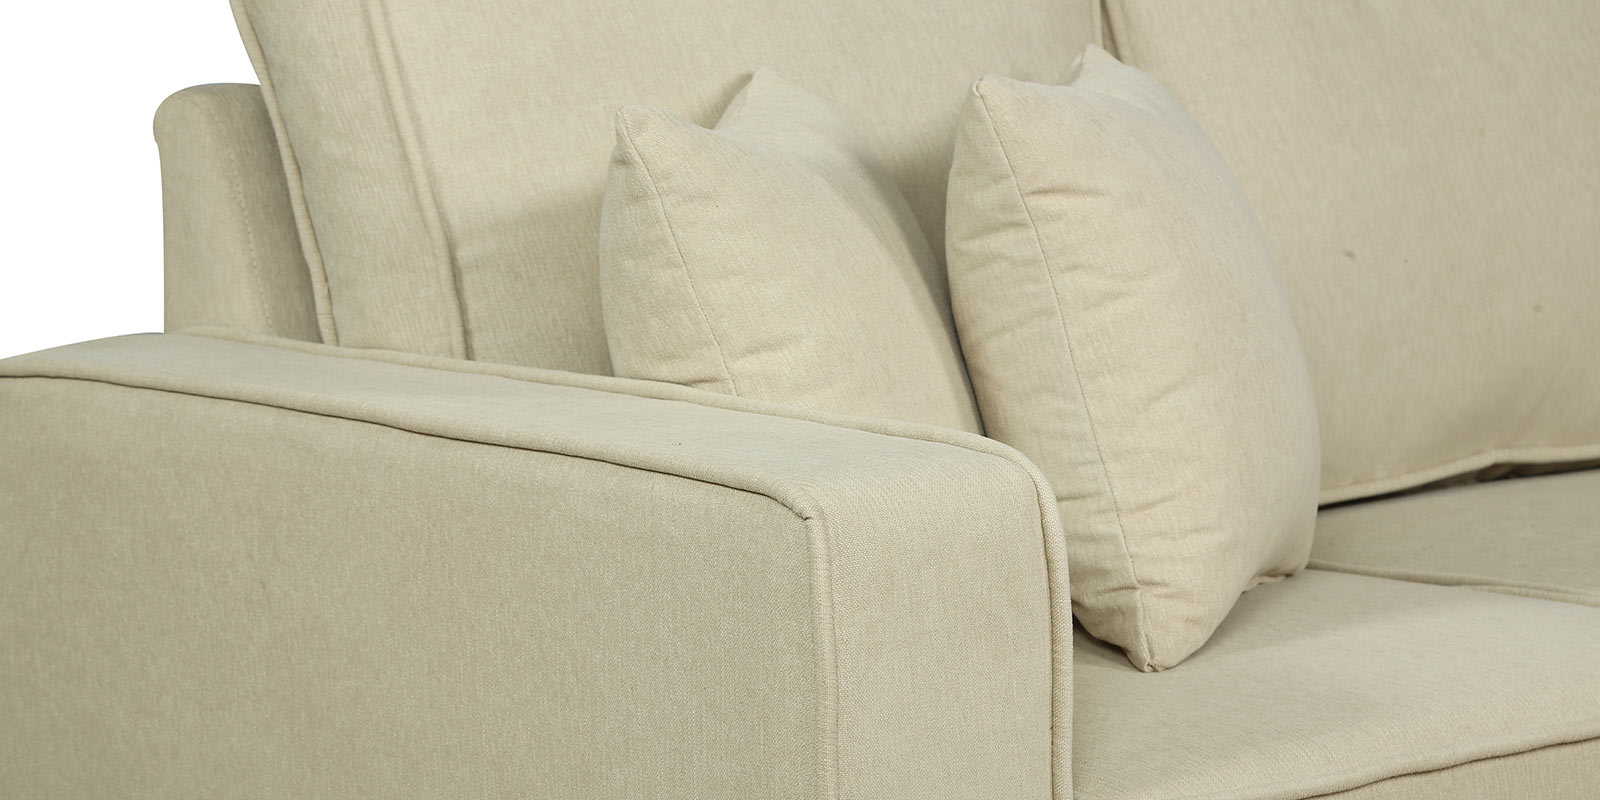Hugo Three Seater Sofa in Beige Colour by CasaCraft: (5, 3, 1594, 800)
